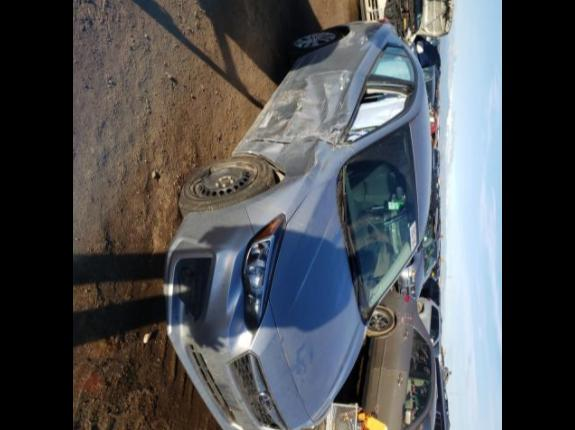Broken part: (232, 350, 288, 430), (244, 136, 336, 144)
Corrosion: (231, 86, 278, 154)
Dent: (242, 68, 366, 142), (231, 138, 322, 176)
Missing part: (344, 76, 414, 142), (328, 124, 364, 148)
Scratch: (280, 118, 292, 134), (332, 142, 354, 150), (258, 114, 272, 126), (299, 130, 322, 136), (276, 88, 298, 94), (312, 148, 318, 168), (276, 94, 294, 100), (294, 102, 302, 114), (324, 82, 330, 96), (304, 98, 320, 102), (322, 96, 326, 110), (264, 113, 268, 122)
